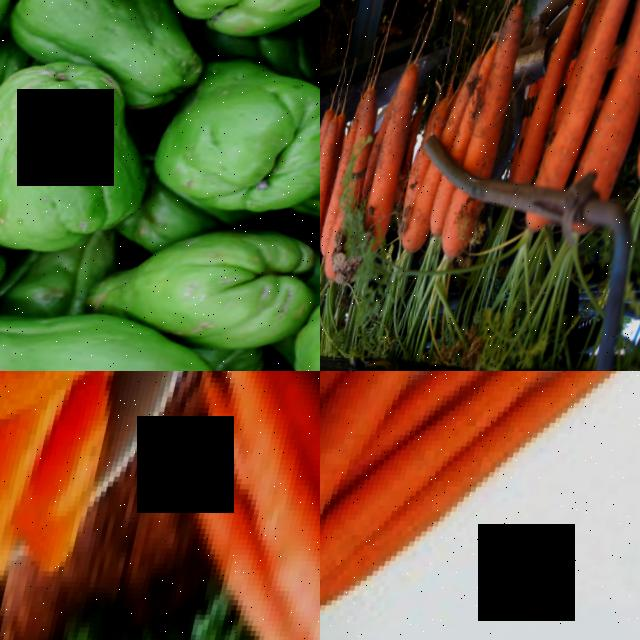carrot: (537, 0, 640, 195), (466, 11, 538, 190), (520, 0, 583, 190), (364, 69, 424, 264), (331, 101, 386, 277), (596, 0, 640, 181), (320, 93, 359, 264), (409, 169, 443, 280), (448, 200, 493, 278), (436, 178, 460, 249)
chayote: (0, 70, 171, 267), (169, 77, 320, 255), (0, 299, 255, 371), (4, 0, 202, 92), (177, 0, 320, 87)
